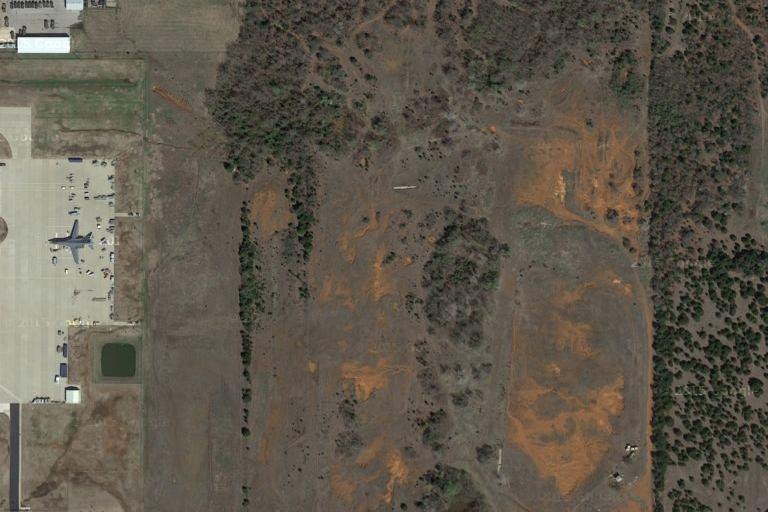B-1B: (46, 217, 99, 266)
